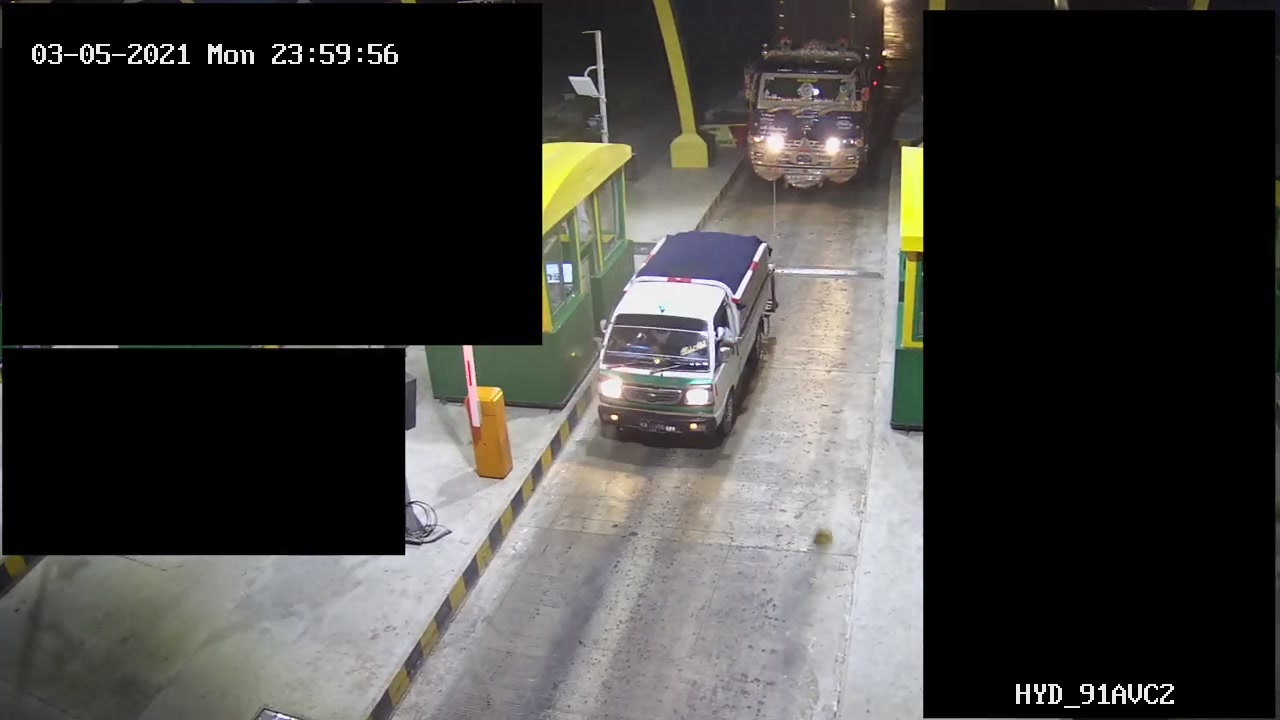F1: (588, 213, 786, 461)
